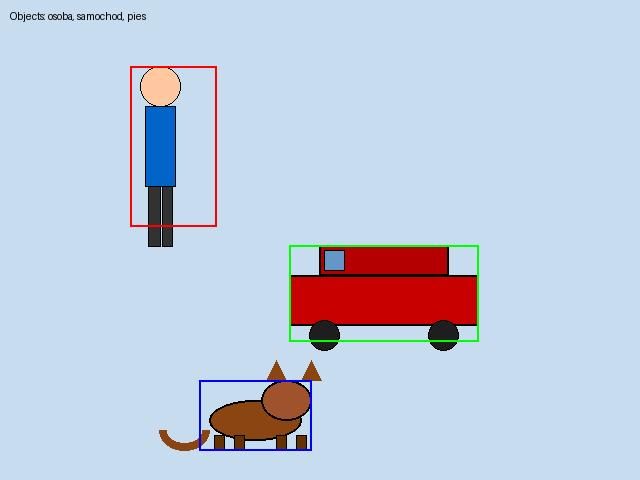osoba: (130, 66, 216, 226)
pies: (199, 380, 311, 450)
samochod: (289, 245, 478, 341)
